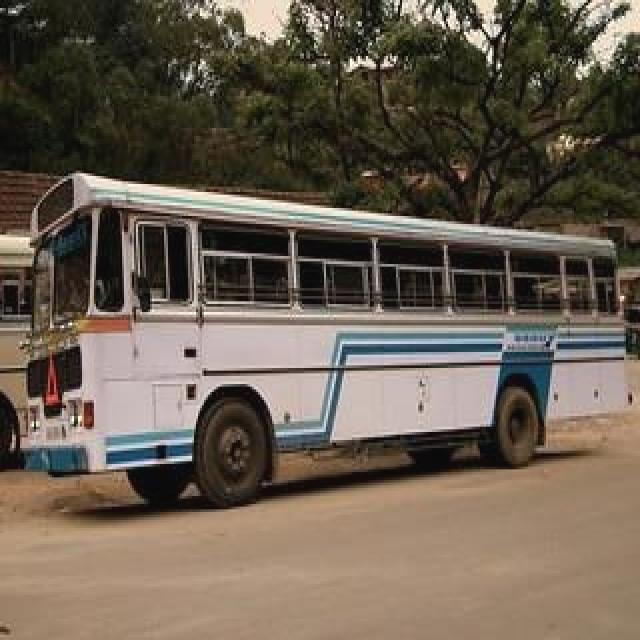Bus: (45, 252, 622, 433)
